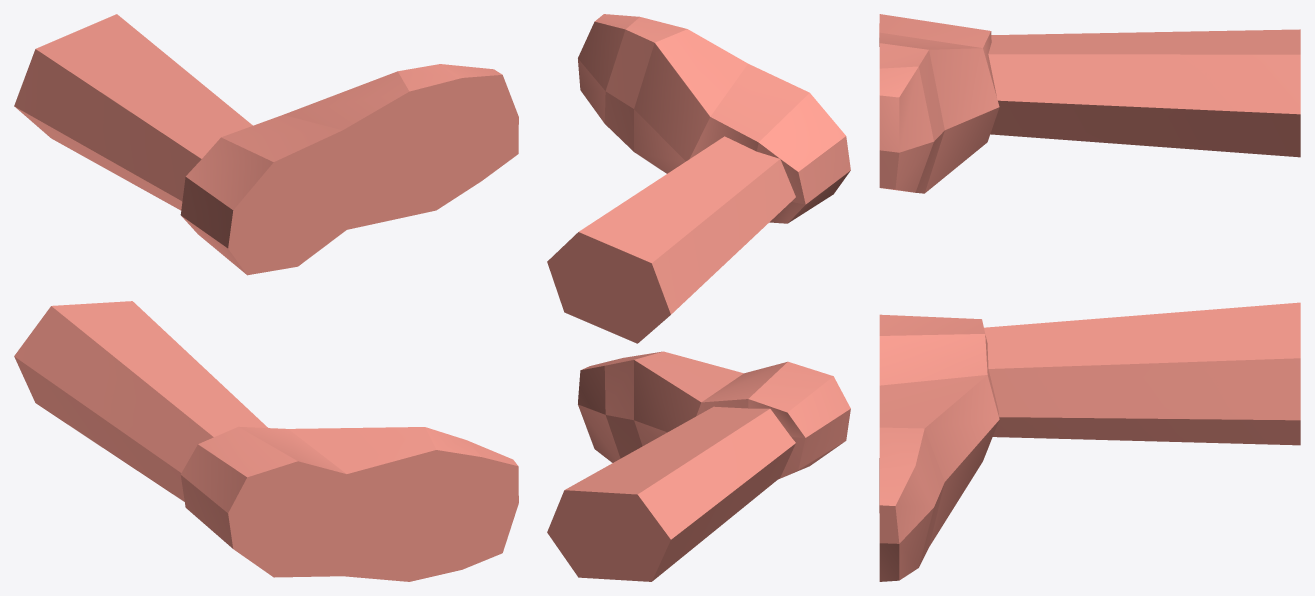
The model's file is TeleportationIndicator.fbx.
3 renders of one model, left to right at view 1: azimuth 30°, elevation 25°; view 2: azimuth 150°, elevation 25°; view 3: azimuth 270°, elevation 25°, orthographic. The views are drawn at different scales.
Parts seen in each view (by area): view 1: s.0009, s.0009_2; view 2: s.0009_2, s.0009; view 3: s.0009, s.0009_2.
Boxes of the visible parts, left/top/right/bottom form: s.0009: left=14, top=301, right=518, bottom=581; s.0009_2: left=14, top=14, right=518, bottom=275; s.0009_2: left=547, top=14, right=850, bottom=343; s.0009: left=547, top=351, right=850, bottom=581; s.0009: left=879, top=302, right=1300, bottom=581; s.0009_2: left=879, top=14, right=1300, bottom=193.
Size of the model in its own units: 0.3804 by 0.4537 by 0.5956.
